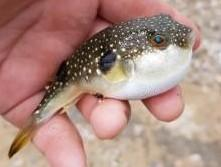fish: (10, 14, 193, 157)
